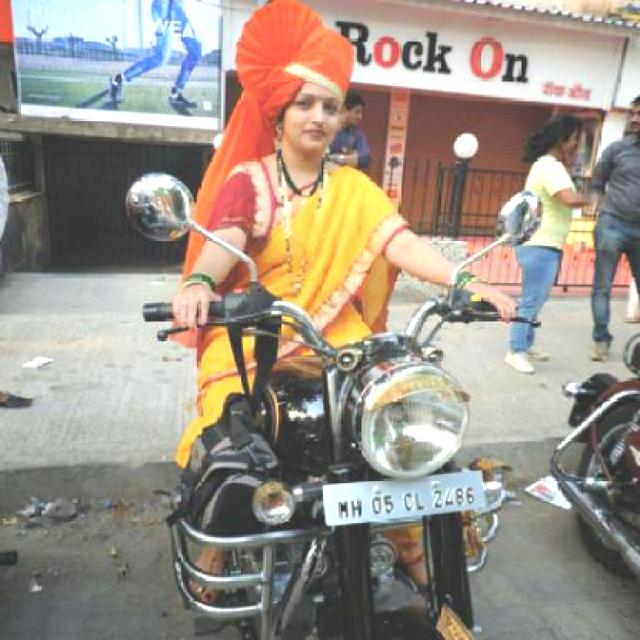Without Helmet: (237, 20, 372, 168)
